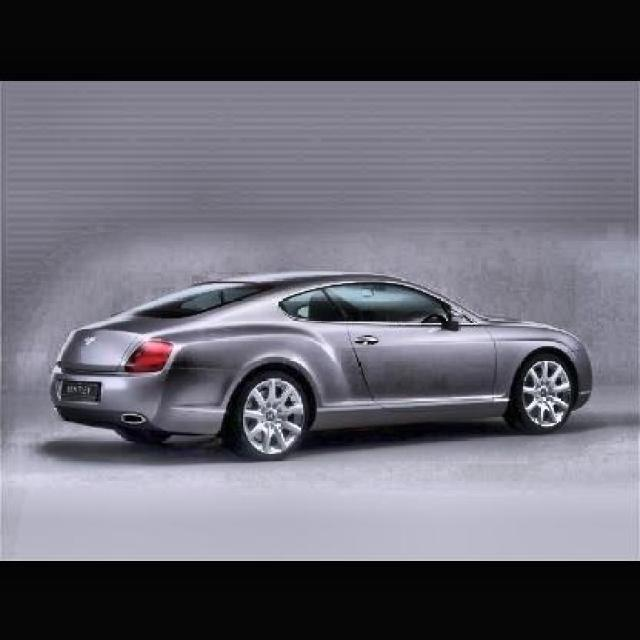silver: (55, 271, 596, 456)
